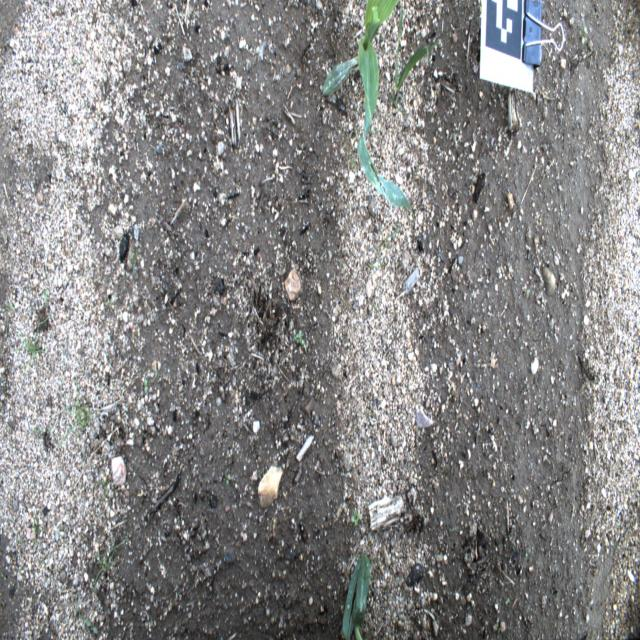crop: (318, 1, 439, 216), (339, 544, 368, 638)
weed: (26, 306, 46, 383), (67, 382, 91, 432)
